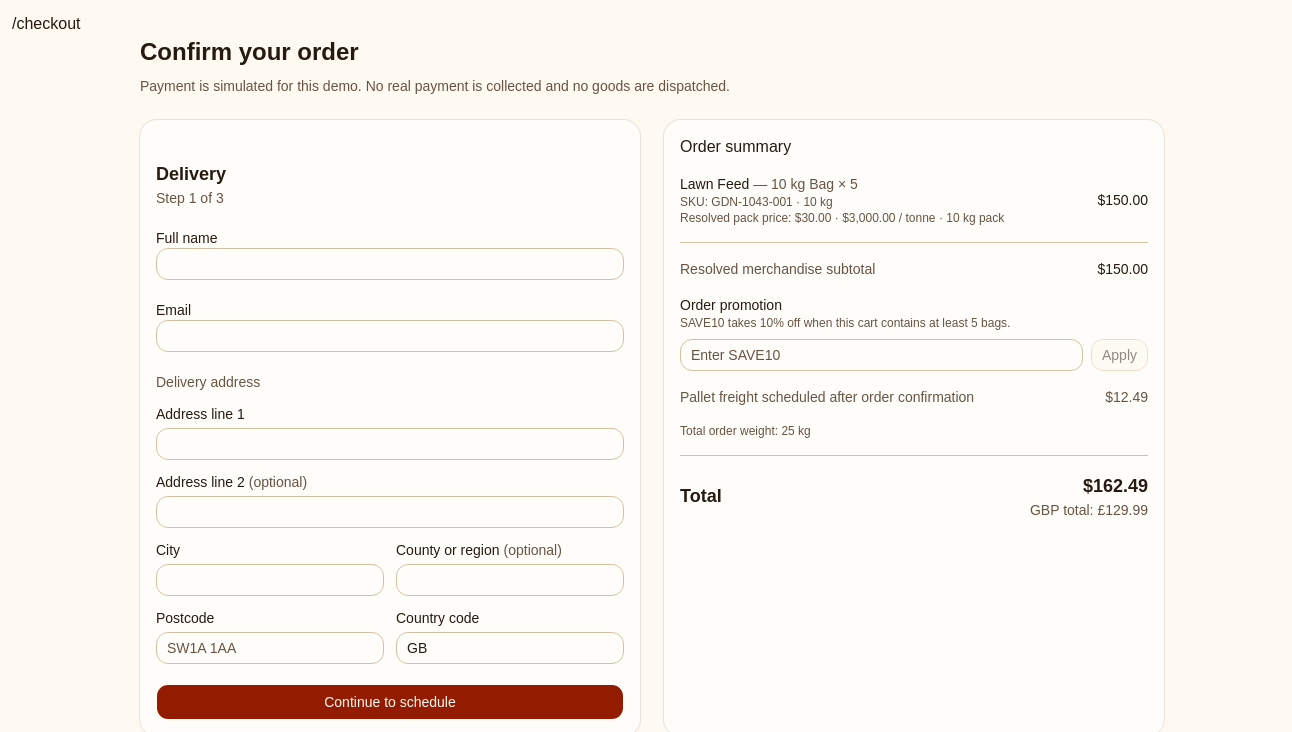
Scenario: Checkout summary and promotions › carries a clearance-priced catalog line into a scoped-promo checkout total
This screenshot has width=1292, height=732.
Check: the text "Resolved pack price: $30.00 · $3,000.00 / tonne · 10 kg pack" is shown, box [680,211,1004,225]
Type "GARDEN10" into the field labelled "Order promotion" at [882, 355], box [680,339,1083,371]
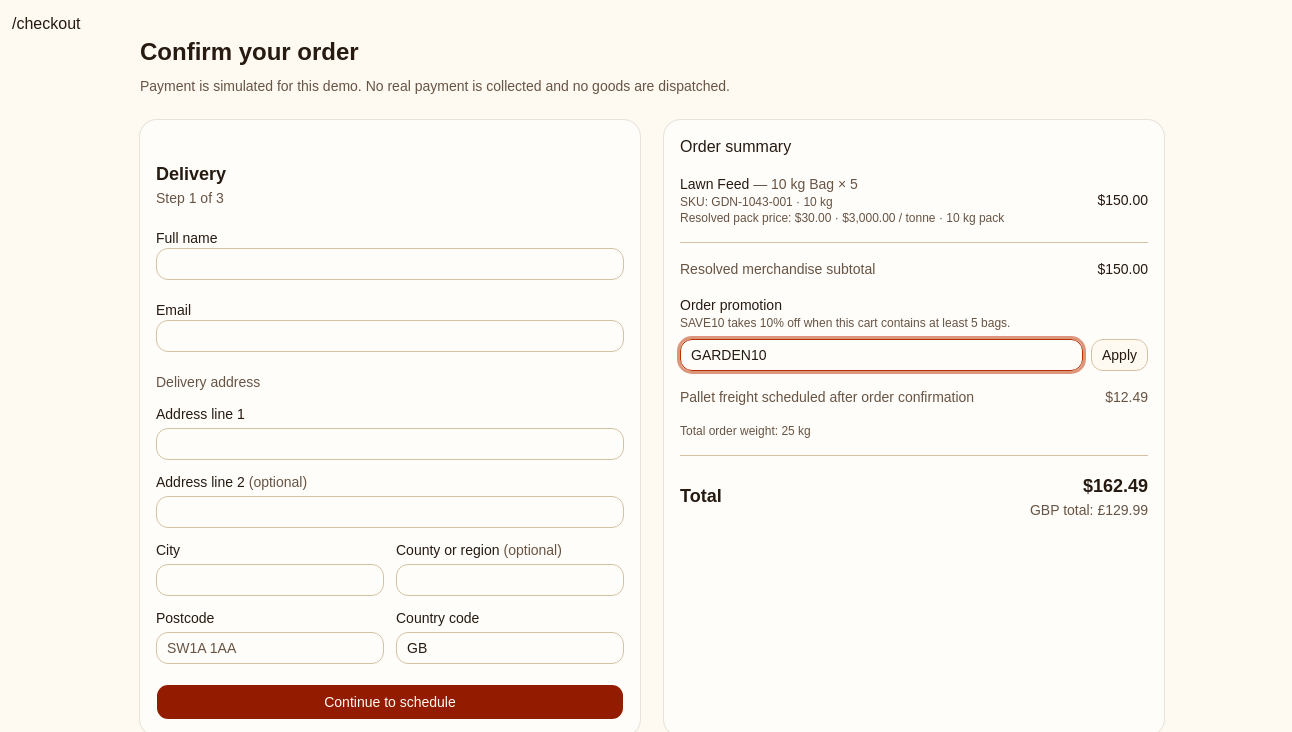
Click the button "Apply" at [1120, 355], box [1091,339,1148,371]
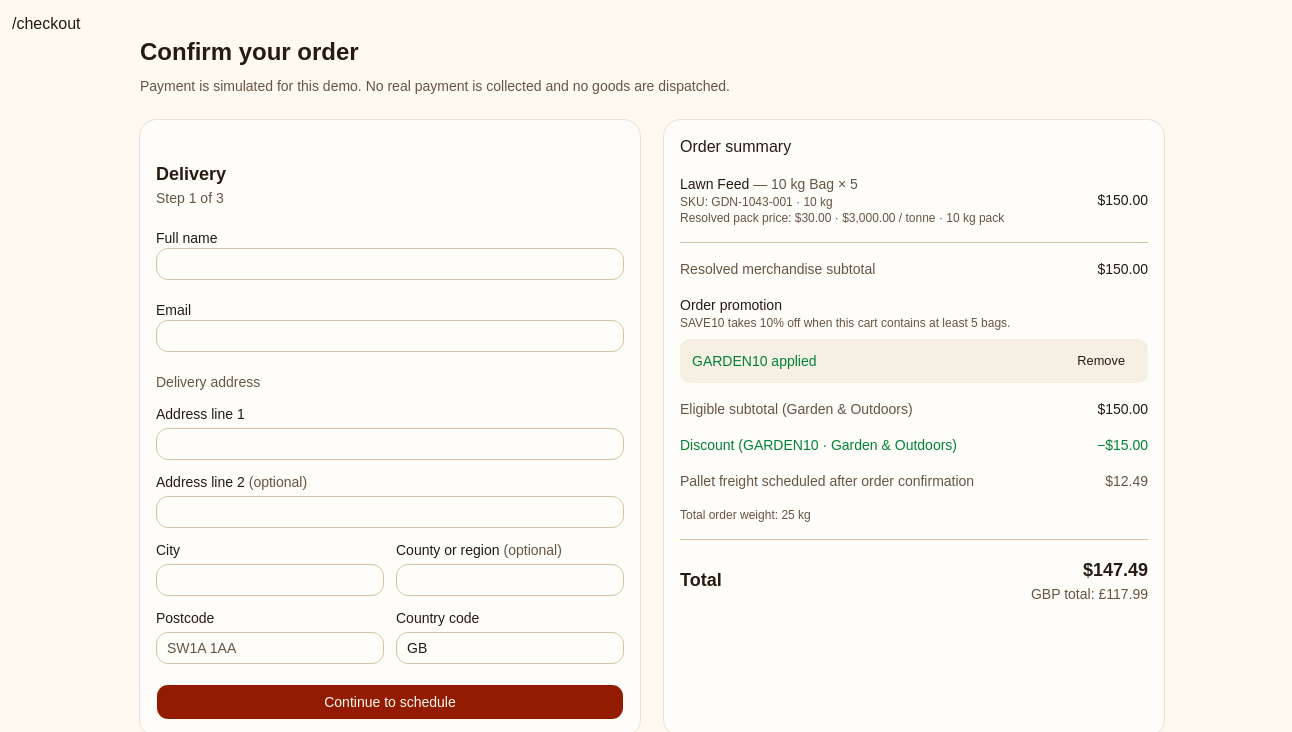
Check: the text "Eligible subtotal (Garden & Outdoors)" is shown, box [680,399,913,419]
Check: the text "Discount (GARDEN10 · Garden & Outdoors)" is shown, box [680,435,957,455]
Check: the text "$147.49" is shown, box [1083,560,1148,580]
